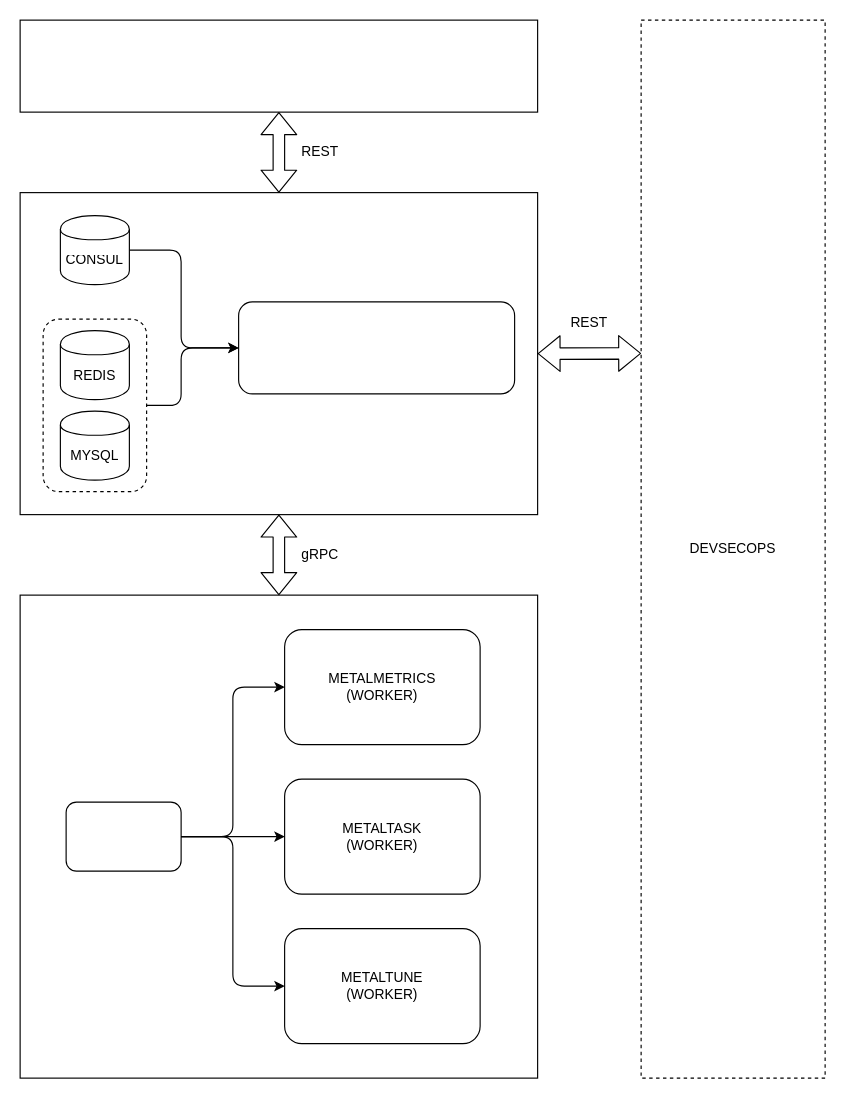
This 845x1098 diagram has some shape labels left out. Each missing label, with the centre of its shape:
METALBEAT (AGENT): the point at 123,836
METALFLOW (SERVER): the point at 376,347
METALWEB (WEB): the point at 278,65
